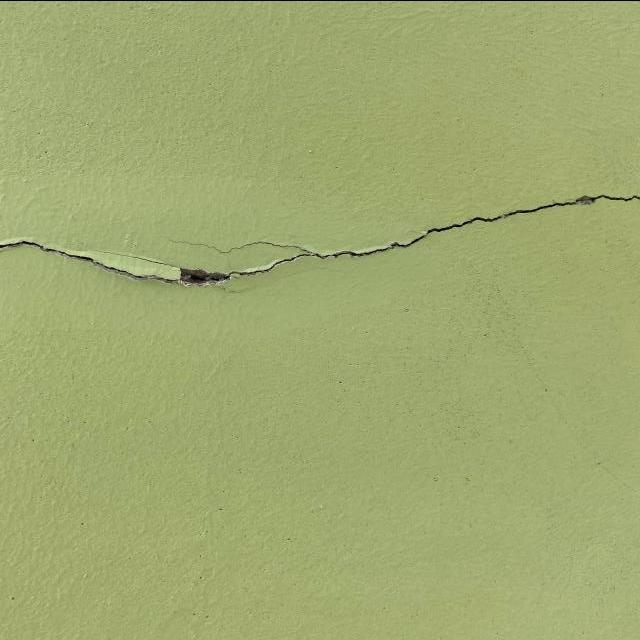SurfaceCrack: (1, 163, 640, 327)
